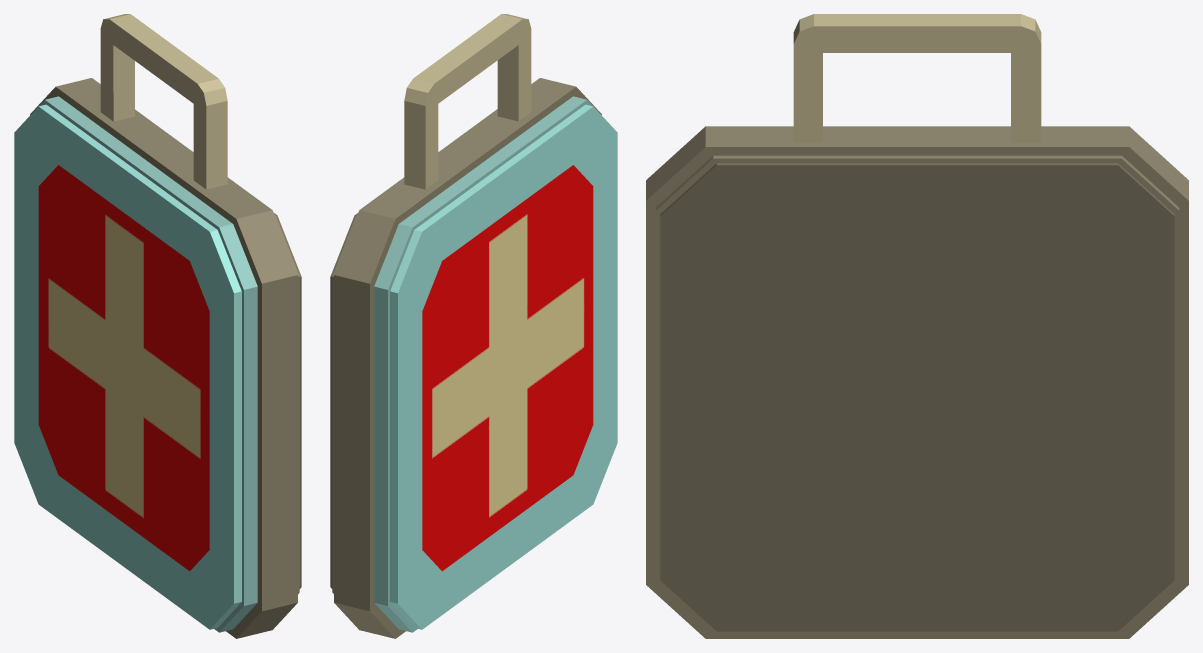
The model's file is HealthKit.glb.
3 views of the same model, side by side, from view 1: azimuth 30°, elevation 25°; view 2: azimuth 150°, elevation 25°; view 3: azimuth 270°, elevation 25° (orthographic). The views are drawn at different scales.
Visible parts, largest first — view 1: HealthKit; view 2: HealthKit; view 3: HealthKit.
Part boxes in pixels (x1,y1,x2,y2): HealthKit: (14,14,301,638); HealthKit: (330,14,617,638); HealthKit: (646,14,1188,638).
Size of the model in its own units: 0.073 by 0.5355 by 0.433.
1 material, 1 textured.
